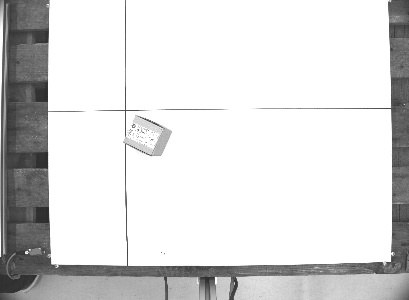b2: (120, 113, 175, 159)
